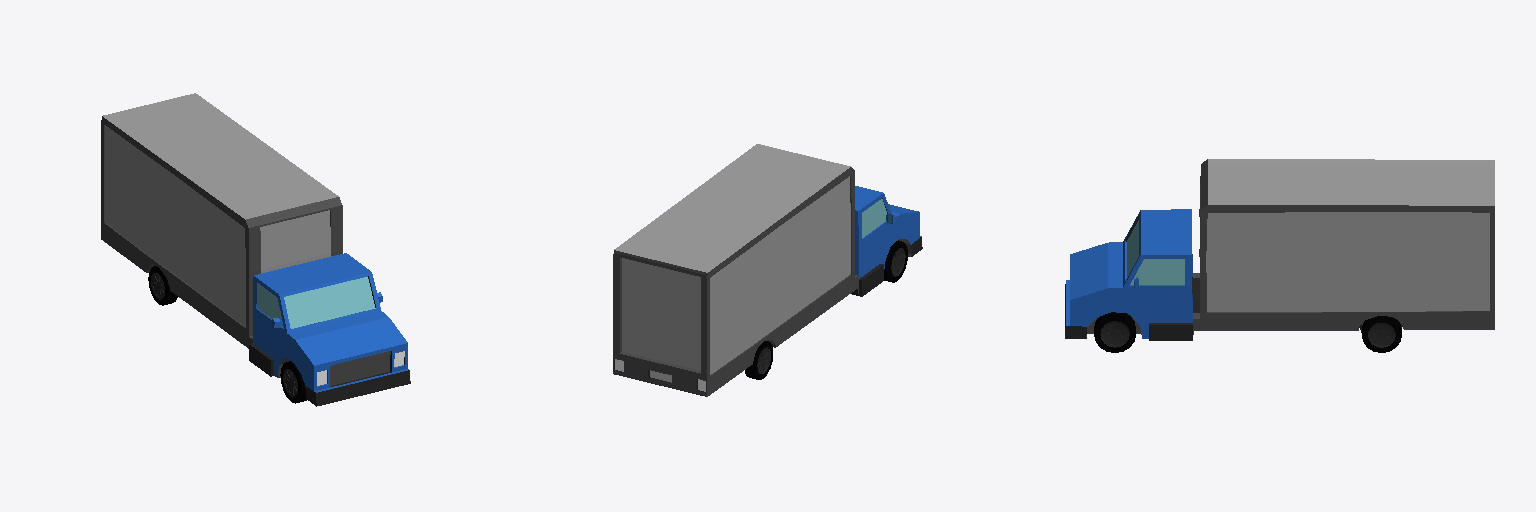
File: truck.obj
3 renders of one model, left to right at view 1: azimuth 30°, elevation 25°; view 2: azimuth 150°, elevation 25°; view 3: azimuth 270°, elevation 25°, orthographic.
Visible parts, largest first — view 1: Object_32, Object_27, Object_30, Object_37, Object_23; view 2: Object_32, Object_17, Object_30, Object_15, Object_27, Object_23, Object_37; view 3: Object_32, Object_27, Object_30, Object_37, Object_23, Object_40, Object_48, Object_41, Object_49.
Boxes of the visible parts, x1=… form: Object_32: x1=103, y1=93, x2=338, y2=326; Object_27: x1=253, y1=253, x2=408, y2=392; Object_30: x1=101, y1=116, x2=390, y2=385; Object_37: x1=257, y1=277, x2=375, y2=328; Object_23: x1=249, y1=343, x2=410, y2=406; Object_32: x1=614, y1=144, x2=850, y2=374; Object_17: x1=622, y1=258, x2=700, y2=370; Object_30: x1=707, y1=167, x2=858, y2=396; Object_15: x1=613, y1=239, x2=911, y2=396; Object_27: x1=855, y1=186, x2=921, y2=278; Object_23: x1=859, y1=237, x2=922, y2=296; Object_37: x1=862, y1=199, x2=886, y2=237; Object_32: x1=1206, y1=159, x2=1494, y2=311; Object_27: x1=1066, y1=209, x2=1192, y2=338; Object_30: x1=1087, y1=159, x2=1494, y2=334; Object_37: x1=1127, y1=220, x2=1184, y2=284; Object_23: x1=1065, y1=277, x2=1192, y2=340; Object_40: x1=1094, y1=312, x2=1135, y2=352; Object_48: x1=1362, y1=316, x2=1401, y2=352; Object_41: x1=1100, y1=321, x2=1129, y2=347; Object_49: x1=1368, y1=323, x2=1395, y2=347.
Bounding box in the file's own units: 1.31 × 1.71 × 4.48.